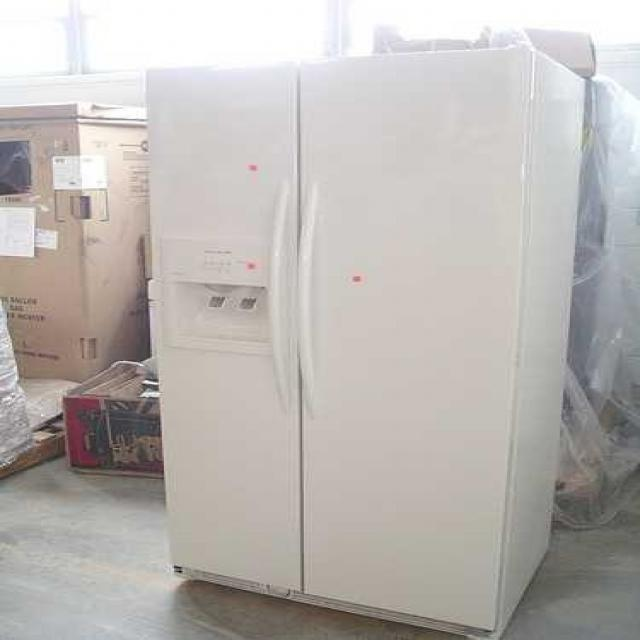refrigerator: (150, 44, 534, 640)
